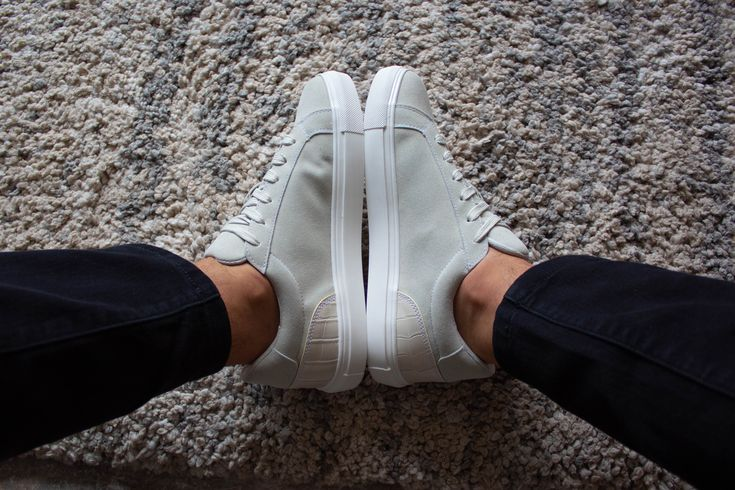gamuza: (204, 70, 529, 389)
